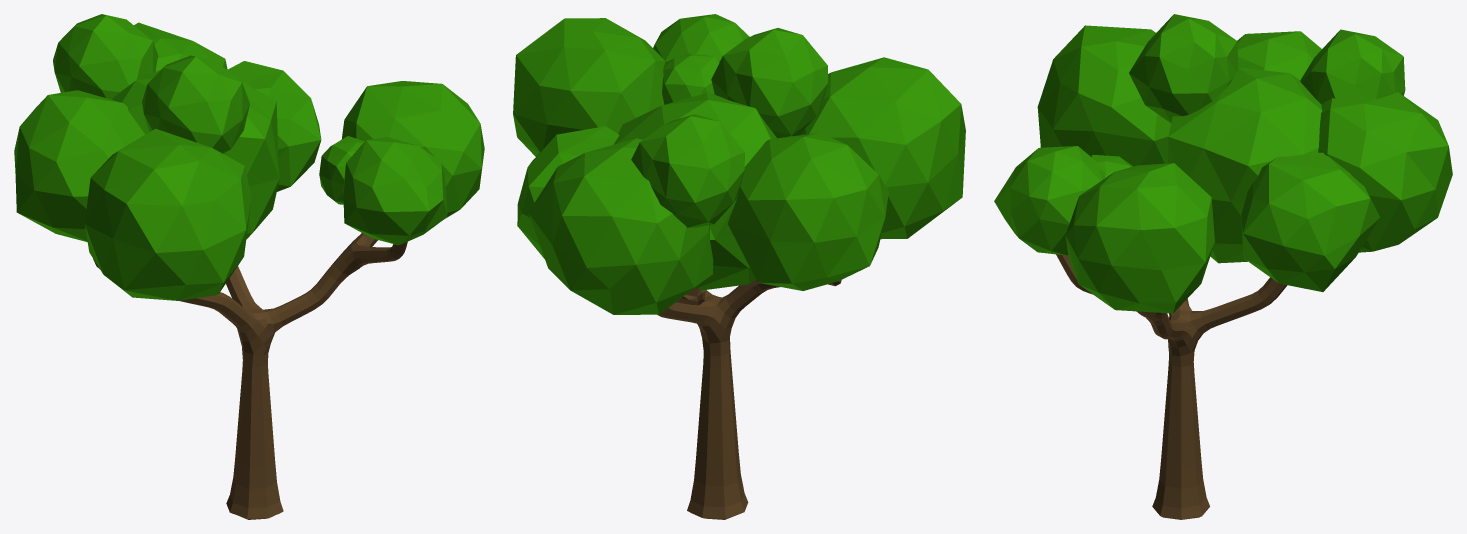
File: Pohon.fbx
The picture shows the model from 3 angles, left to right: view 1: azimuth 30°, elevation 25°; view 2: azimuth 150°, elevation 25°; view 3: azimuth 270°, elevation 25°; orthographic projection. The views are drawn at different scales.
Visible parts, largest first — view 1: Tree; view 2: Tree; view 3: Tree.
Part boxes in pixels (x1,y1,x2,y2): Tree: [14, 14, 484, 519]; Tree: [513, 14, 965, 519]; Tree: [994, 14, 1452, 519].
Bounding box in the file's own units: 810 × 936 × 838.
